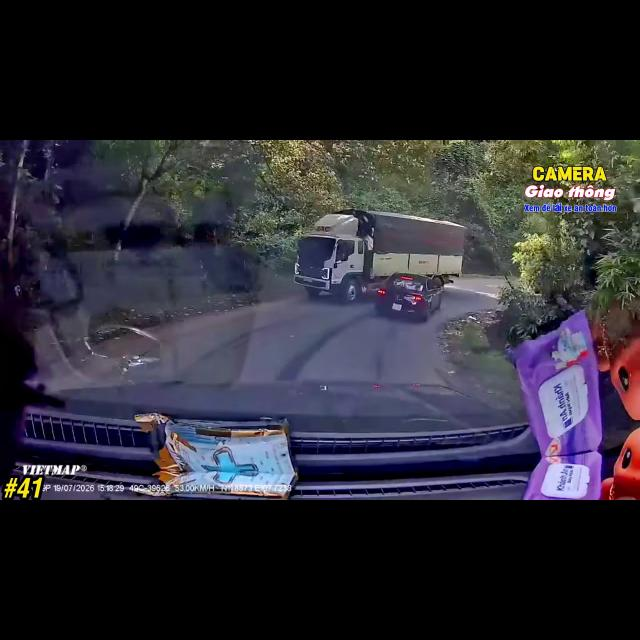car: (375, 273, 442, 320)
truck: (294, 209, 466, 302)
